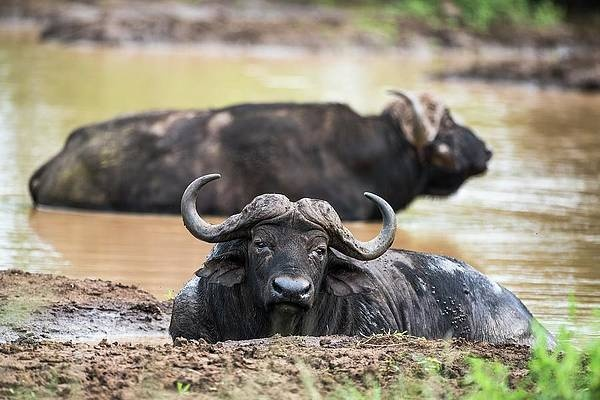buffalo: (167, 171, 563, 355), (27, 87, 496, 223)
